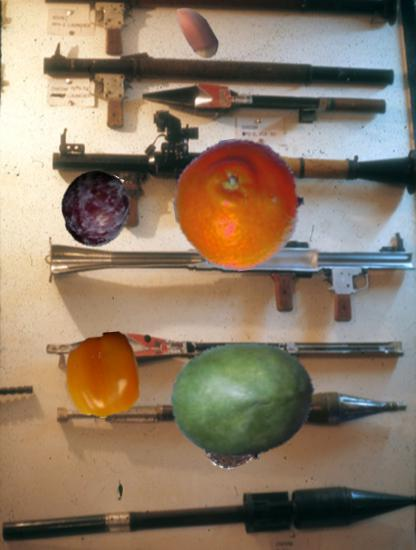Hazelnut: (167, 2, 227, 62)
Mango: (169, 328, 316, 475)
Pepper: (60, 333, 145, 418)
Plum: (56, 170, 134, 248)
Rambutan: (203, 421, 260, 478)
Tangelo: (174, 138, 307, 271)
